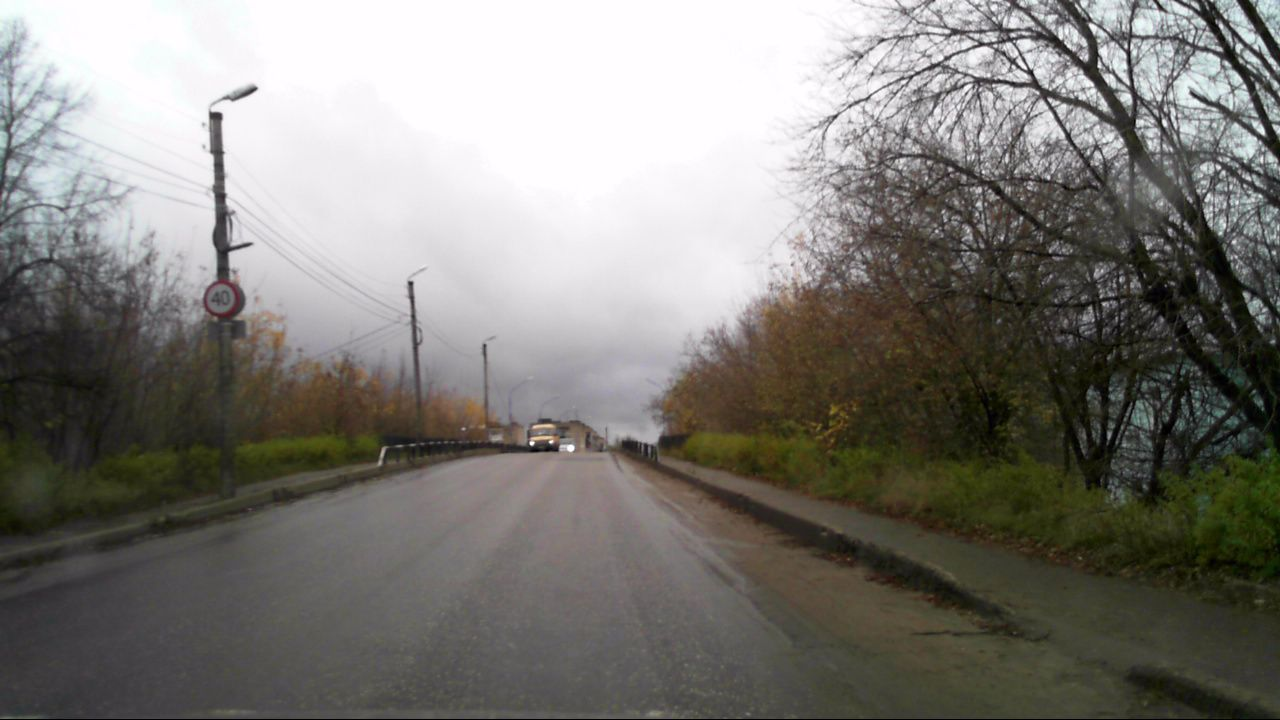speed_warning_40: (202, 280, 240, 319)
